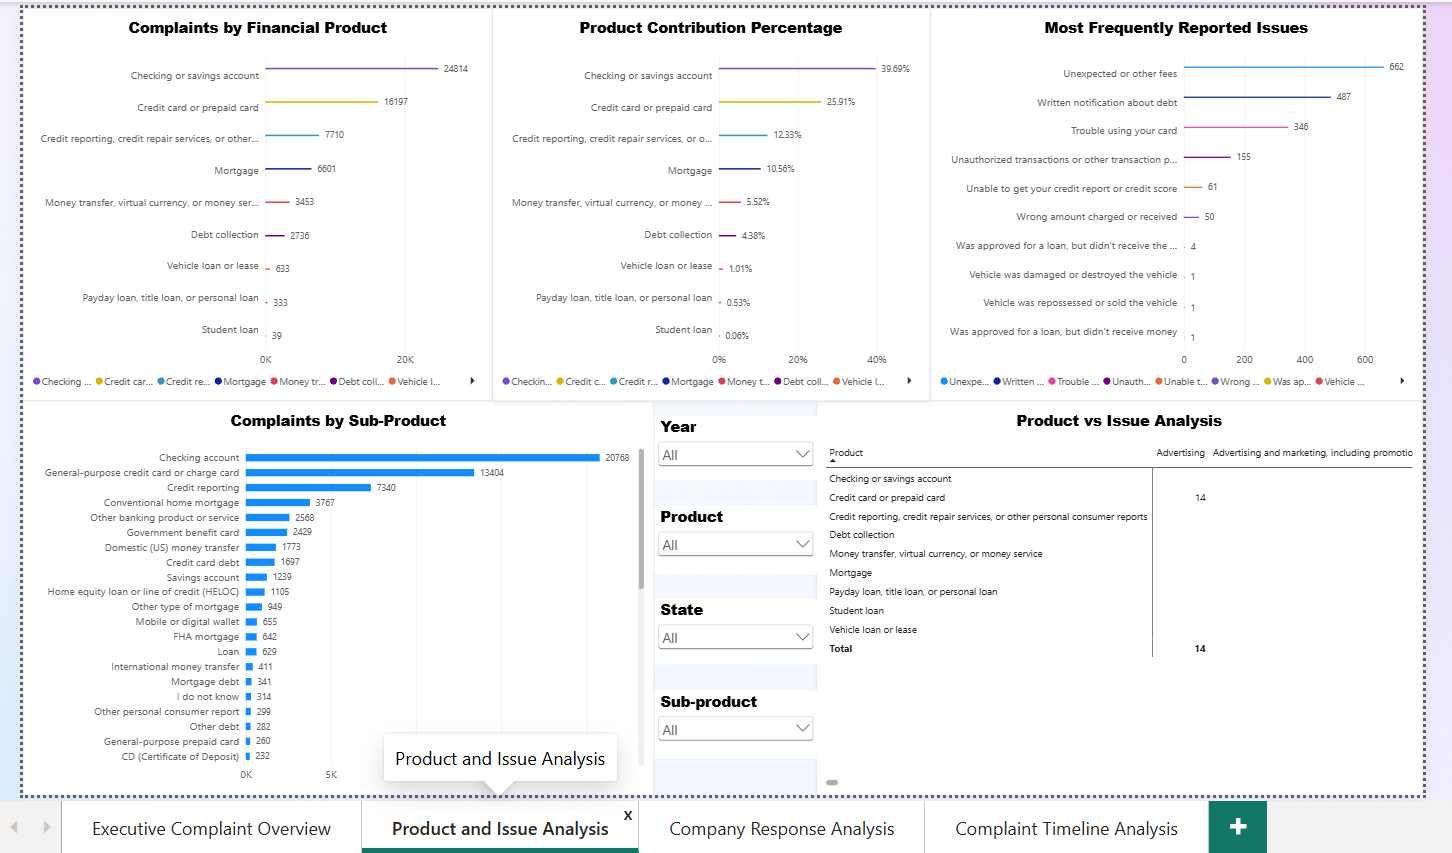

What the dashboard file says about the page in this screenshot:
{"tool":"powerbi","page":{"name":"Product and Issue Analysis","canvas":[1920,1080],"ordinal":1},"visuals":[{"type":"clusteredBarChart","title":"Complaints by Financial Product","fields":{"Category":["Data.Product"],"Series":["Data.Product"],"Y":["Data.Total Complaints"]},"box":[0,0,644.8,539.3],"z":0},{"type":"clusteredBarChart","title":"Complaints by Sub-Product","fields":{"Category":["Data.Sub-product"],"Y":["Data.Total Complaints"]},"box":[0,539.3,865.8,541.4],"z":1000},{"type":"clusteredBarChart","title":"Most Frequently Reported Issues","fields":{"Category":["Data.Issue"],"Series":["Data.Issue"],"Y":["Data.Total Complaints"]},"box":[1244.9,0,675.2,539.3],"z":2000},{"type":"pivotTable","title":"Product vs Issue Analysis","fields":{"Columns":["Data.Issue"],"Rows":["Data.Product"],"Values":["Data.Total Complaints"]},"box":[1088.8,539.3,831.3,541.4],"z":3000},{"type":"clusteredBarChart","title":"Product Contribution Percentage","fields":{"Category":["Data.Product"],"Series":["Data.Product"],"Y":["Data.Product Contribution %"]},"box":[644.8,0,600.2,539.3],"z":4000},{"type":"slicer","fields":{"Values":["Calendar.Year"]},"box":[865.8,559.6,223,87.2],"z":5000},{"type":"slicer","fields":{"Values":["Data.Sub-product"]},"box":[865.8,936.7,223,93.3],"z":6000},{"type":"slicer","fields":{"Values":["Data.State"]},"box":[865.8,811,223,89.2],"z":7000},{"type":"slicer","fields":{"Values":["Data.Product"]},"box":[865.8,683.3,223,93.3],"z":8000}]}

Visuals, with their boxes on the page's 1920x1080 design canvas (x1, y1, x2, y2). These are canvas units, not pixel positions in the 1452x853 screenshot, which may show the page scaled, cropped or inside an application window:
"Complaints by Financial Product" clusteredBarChart: bbox=(0, 0, 645, 539)
"Complaints by Sub-Product" clusteredBarChart: bbox=(0, 539, 866, 1081)
"Most Frequently Reported Issues" clusteredBarChart: bbox=(1245, 0, 1920, 539)
"Product vs Issue Analysis" pivotTable: bbox=(1089, 539, 1920, 1081)
"Product Contribution Percentage" clusteredBarChart: bbox=(645, 0, 1245, 539)
slicer - Calendar.Year: bbox=(866, 560, 1089, 647)
slicer - Data.Sub-product: bbox=(866, 937, 1089, 1030)
slicer - Data.State: bbox=(866, 811, 1089, 900)
slicer - Data.Product: bbox=(866, 683, 1089, 777)
